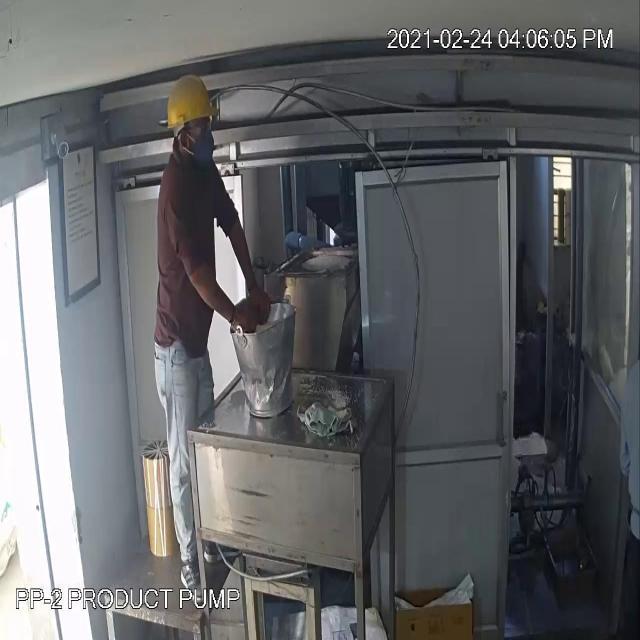helmet: (164, 70, 216, 138)
